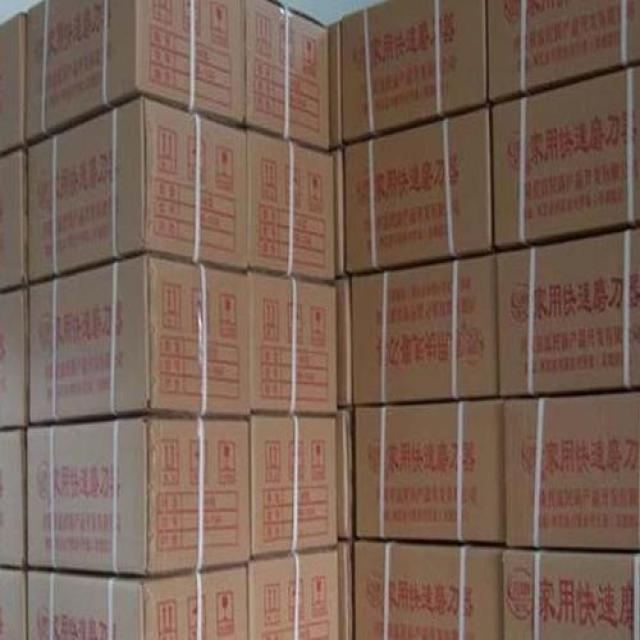box: (26, 98, 247, 281), (27, 255, 248, 427), (27, 417, 251, 577), (491, 65, 639, 251), (345, 107, 492, 277), (497, 228, 639, 398), (353, 398, 505, 544), (348, 256, 496, 405), (502, 390, 639, 549), (341, 2, 488, 143), (24, 564, 248, 639), (486, 0, 639, 104), (355, 542, 504, 639), (246, 129, 338, 284), (250, 413, 340, 561), (247, 272, 338, 417), (246, 1, 330, 152), (502, 547, 639, 639), (249, 549, 344, 639), (0, 281, 29, 429), (0, 146, 29, 288), (0, 13, 27, 152), (0, 428, 26, 569), (338, 407, 356, 545), (329, 21, 345, 152), (338, 280, 353, 410), (0, 568, 26, 638), (335, 150, 347, 280), (340, 543, 356, 639)
